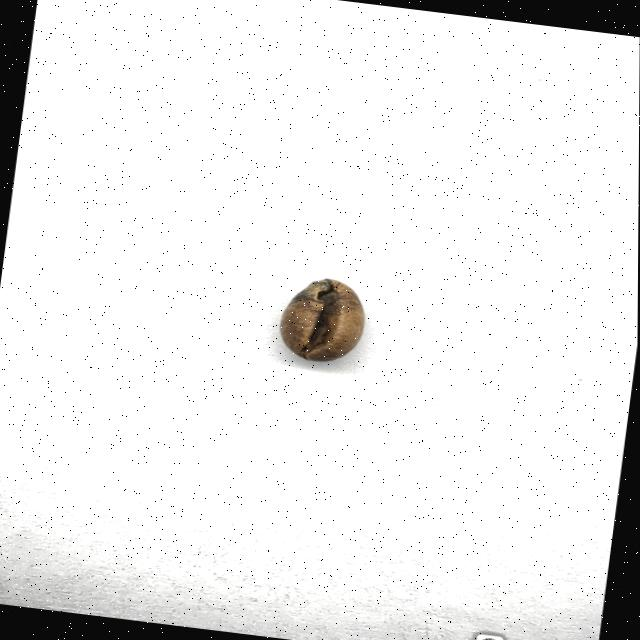Insect damage: (274, 272, 370, 367)
